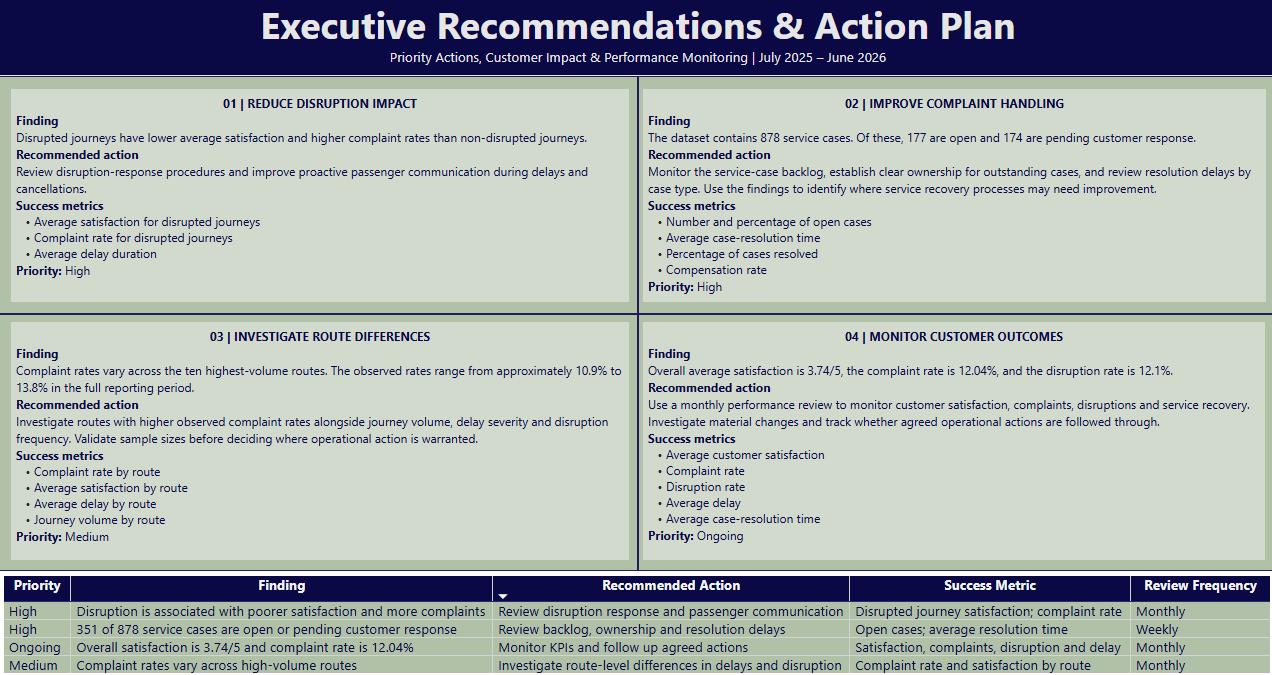

What the dashboard file says about the page in this screenshot:
{"tool":"powerbi","page":{"name":"Recommendations & Action","canvas":[1280,720],"ordinal":5},"visuals":[{"type":"textbox","box":[0,0,1280,82.4],"z":0},{"type":"shape","box":[0,82.4,640,237.6],"z":1000},{"type":"textbox","box":[13,95.5,618.3,212.6],"z":2000},{"type":"shape","box":[640,82.4,640,237.6],"z":3000},{"type":"shape","box":[640,320,640,280.9],"z":4000},{"type":"shape","box":[0,320,640,257.1],"z":5000},{"type":"textbox","box":[13,337.4,618.3,231.1],"z":6000},{"type":"textbox","box":[645.4,95.5,622.6,212.6],"z":7000},{"type":"textbox","box":[645.4,337.4,621.6,231.1],"z":8000},{"type":"tableEx","fields":{"Values":["Executive_Action_Plan.Priority","Executive_Action_Plan.Finding","Executive_Action_Plan.Recommended Action","Executive_Action_Plan.Success Metric","Executive_Action_Plan.Review Frequency"]},"box":[0,577.1,1280,108.5],"z":9000}]}

Visuals, with their boxes on the page's 1280x720 design canvas (x1, y1, x2, y2). These are canvas units, not pixel positions in the 1272x675 screenshot, which may show the page scaled, cropped or inside an application window:
textbox: <region>0, 0, 1280, 82</region>
shape: <region>0, 82, 640, 320</region>
textbox: <region>13, 96, 631, 308</region>
shape: <region>640, 82, 1280, 320</region>
shape: <region>640, 320, 1280, 601</region>
shape: <region>0, 320, 640, 577</region>
textbox: <region>13, 337, 631, 568</region>
textbox: <region>645, 96, 1268, 308</region>
textbox: <region>645, 337, 1267, 568</region>
tableEx - Executive_Action_Plan.Priority x Executive_Action_Plan.Finding: <region>0, 577, 1280, 686</region>
